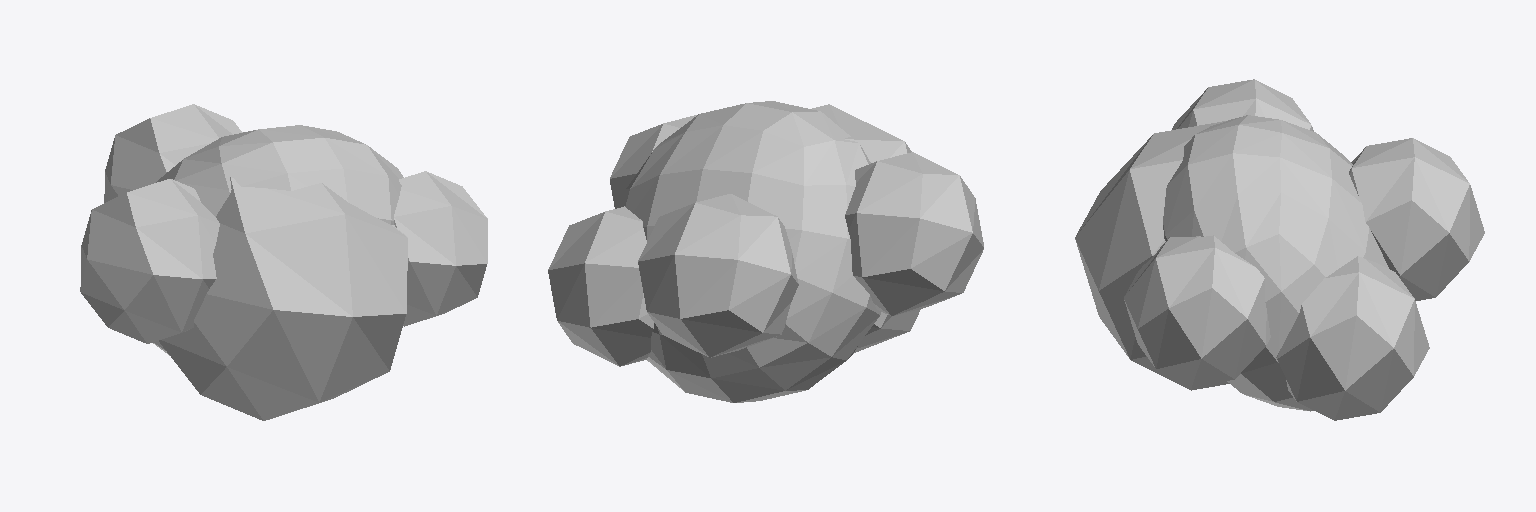
The model's file is Smoke.obj.
3 views of the same model, side by side, from view 1: azimuth 30°, elevation 25°; view 2: azimuth 150°, elevation 25°; view 3: azimuth 270°, elevation 25° (orthographic).
Visible parts, largest first — view 1: Cube; view 2: Cube; view 3: Cube.
Part boxes in pixels (x1,y1,x2,y2): Cube: (80,104,487,420); Cube: (548,101,983,402); Cube: (1075,79,1484,420).
Size of the model in its own units: 9.37 by 6.21 by 8.91.